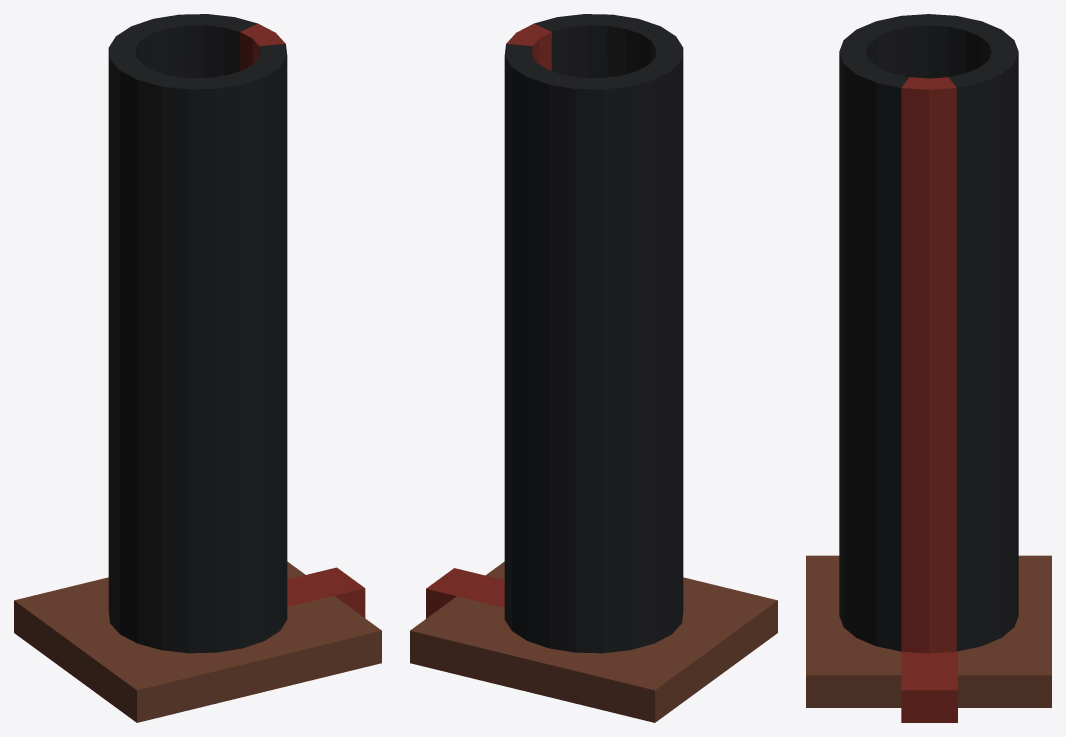
File: BrownSparkleTube3.fbx
3 renders of one model, left to right at view 1: azimuth 30°, elevation 25°; view 2: azimuth 150°, elevation 25°; view 3: azimuth 270°, elevation 25°, orthographic.
Parts seen in each view (by area): view 1: Cylinder, Cube; view 2: Cylinder, Cube; view 3: Cylinder, Cube.
Part boxes in pixels (box(x1,y1,x2,y2)): Cylinder: box(108, 14, 287, 653); Cube: box(14, 561, 381, 722); Cylinder: box(504, 14, 683, 653); Cube: box(410, 561, 777, 722); Cylinder: box(839, 14, 1018, 653); Cube: box(806, 555, 1051, 722).
Size of the model in its own units: 35.46 by 73.23 by 27.37.
